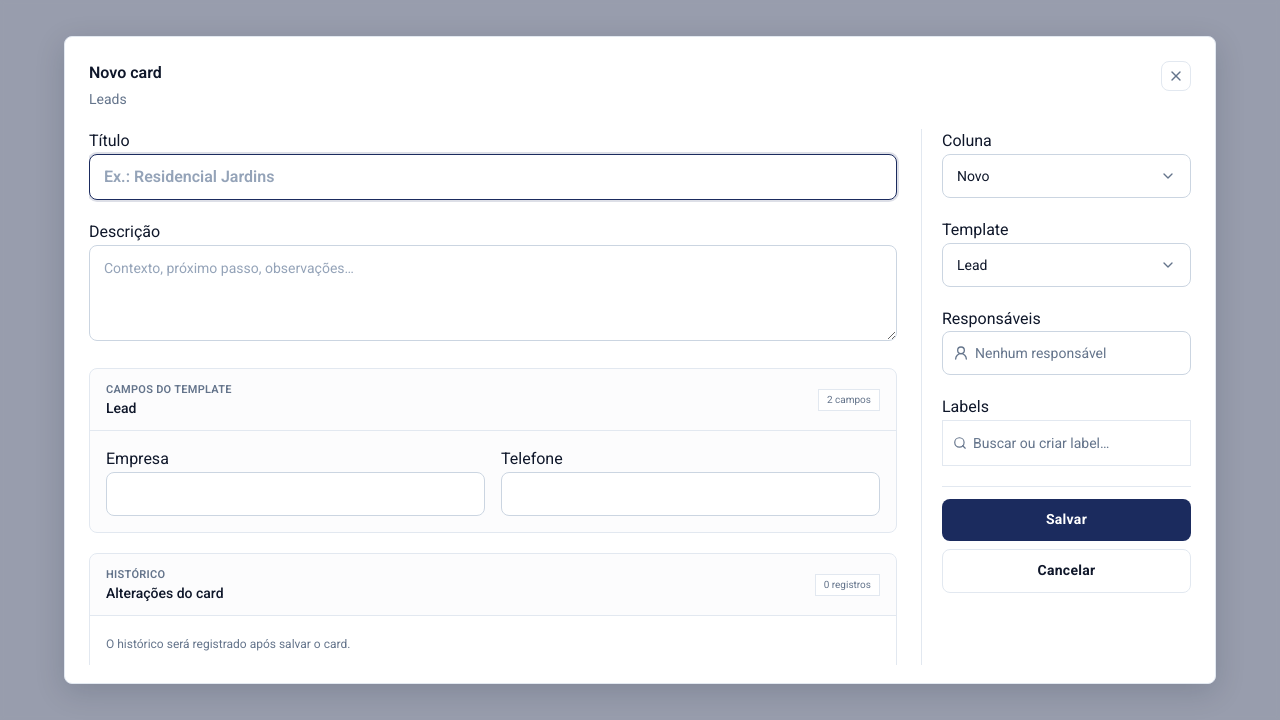
it: CardModal › mostra erro abaixo do salvar e destaca o título
Click the button "Salvar": (1066,520) [942,499,1191,541]
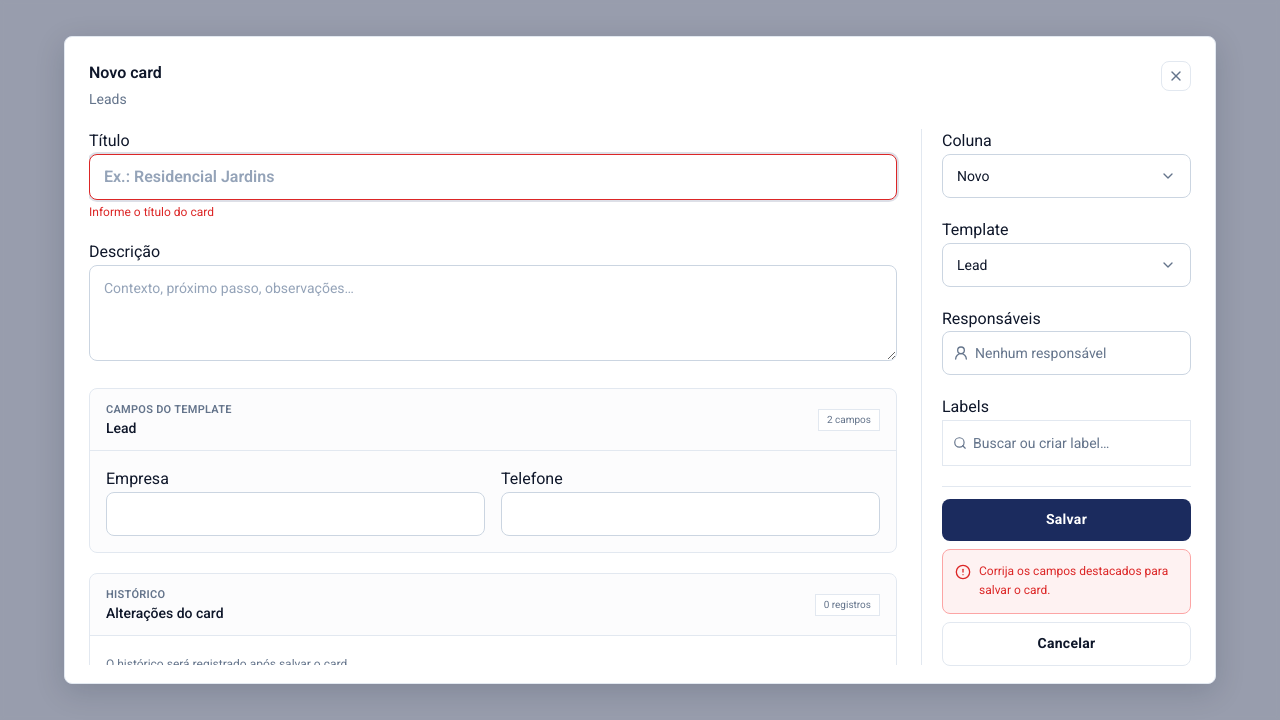
Check: the message shows "Corrija os campos destacados", box [979,564,1168,597]
Check: the text "Informe o título do card" is shown, box [89,205,214,219]
